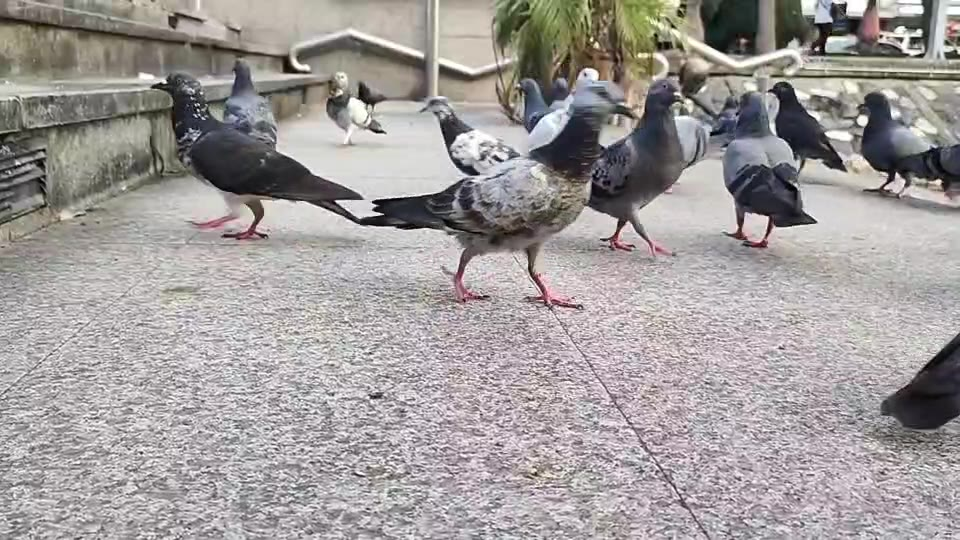Pigeon: (365, 79, 636, 310), (149, 70, 364, 241), (584, 77, 686, 258), (720, 89, 817, 248), (854, 89, 936, 199), (418, 94, 521, 177), (765, 80, 848, 181), (879, 331, 959, 430), (221, 57, 278, 148), (324, 70, 387, 146), (889, 142, 959, 200), (356, 79, 386, 116)
